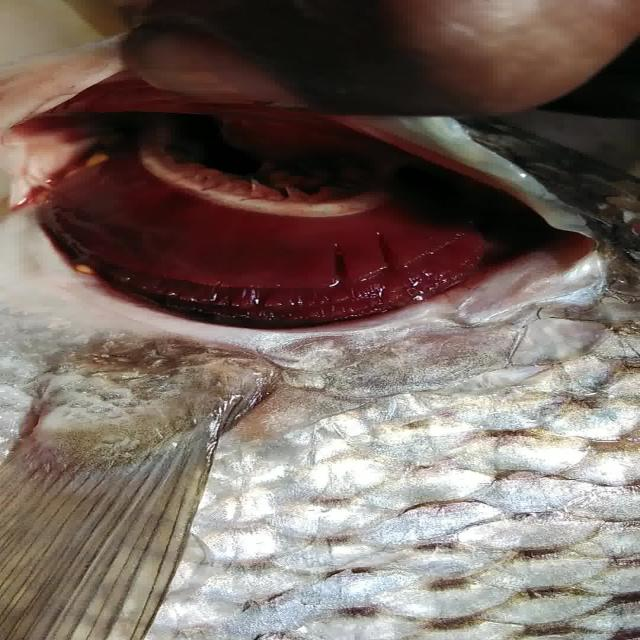Fresh: (20, 116, 603, 341)
